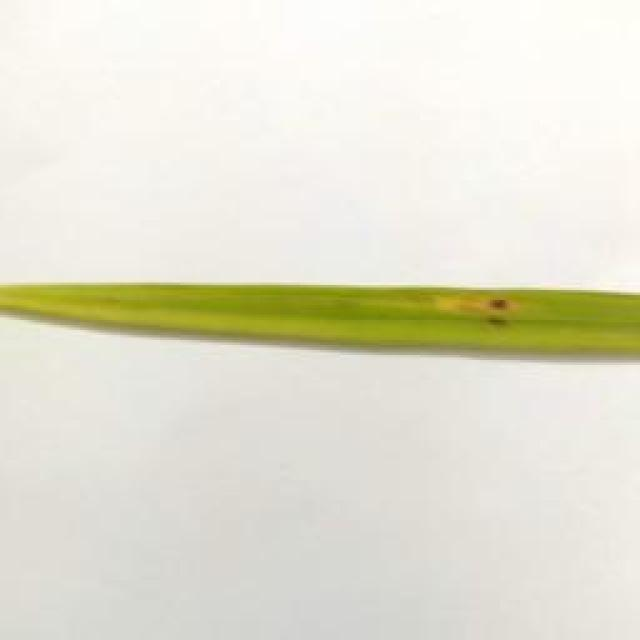Brown_Spot: (480, 292, 518, 314), (483, 313, 518, 331)
